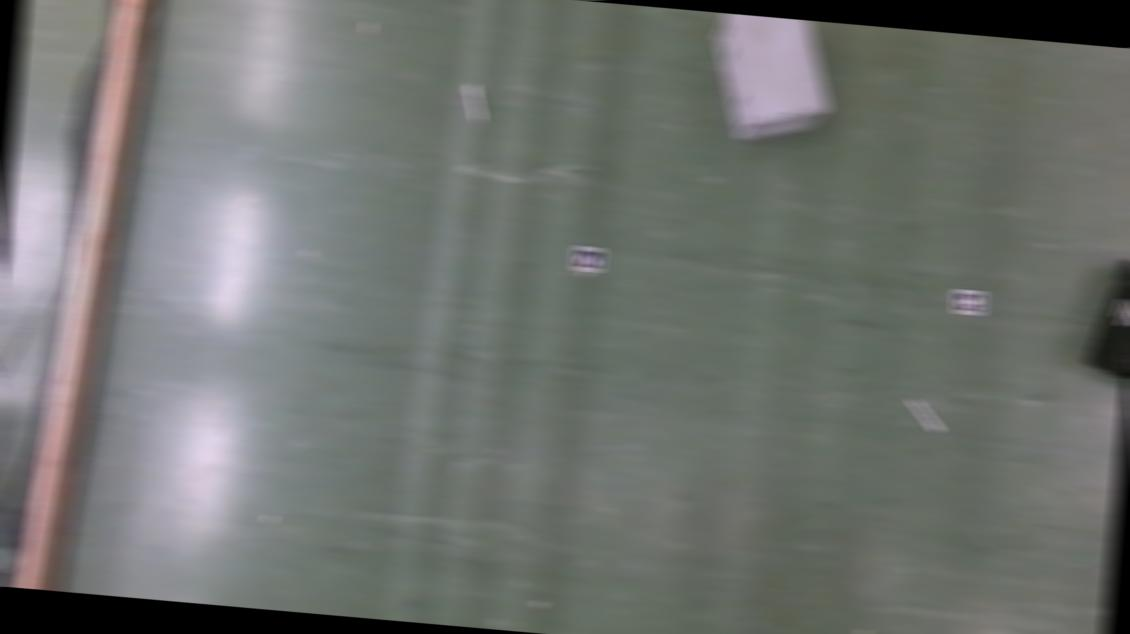probes: (908, 398, 946, 433), (464, 83, 487, 123)
rako: (703, 12, 842, 150), (1083, 246, 1130, 390)
